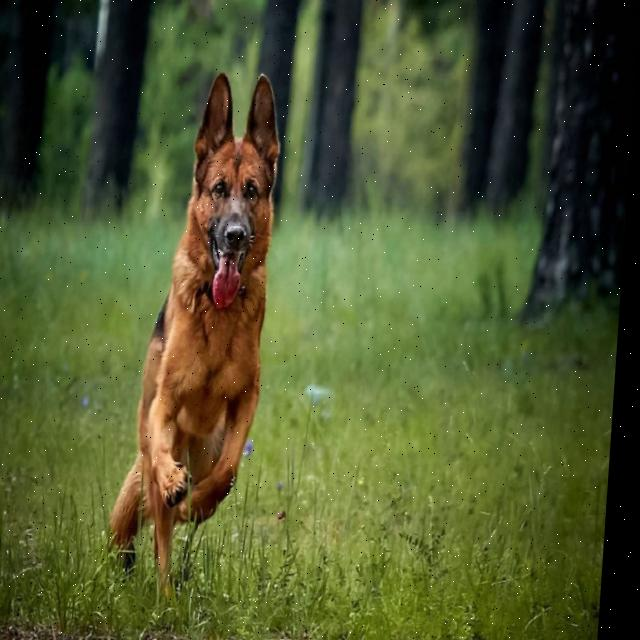GERMAN_SHEPHERD: (90, 63, 302, 598)
